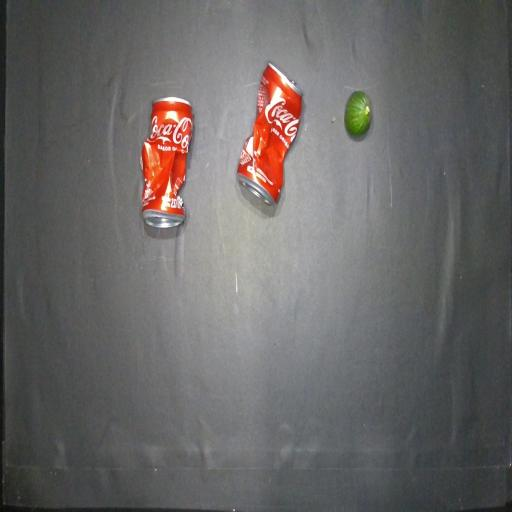lata_defectuoso: (236, 63, 302, 206), (141, 97, 193, 227)
